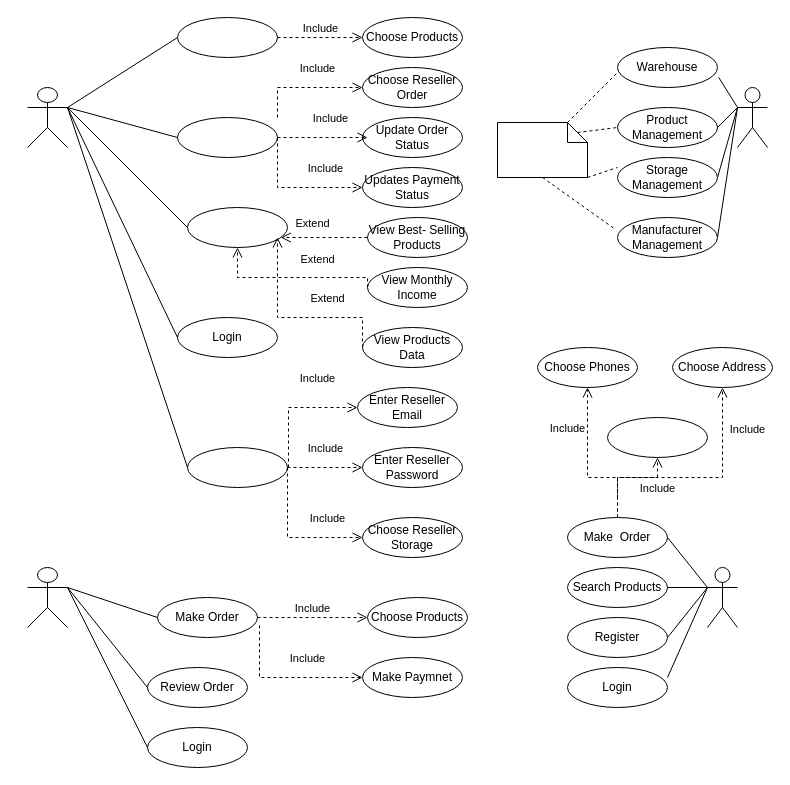
This 790x785 diagram has some shape labels left out. The centre of each missing label's shape, as x and y in pixels:
"Accountant" goes at (47,117).
"Admin" goes at (752,117).
"Choose payment" goes at (657,437).
"Create Export Receipt" goes at (227,137).
"Create import Receipt" goes at (227,37).
"Create Reseller Account" goes at (237,467).
"Create/Read Update/ Delete" goes at (542,150).
"Reseller" goes at (47,597).
"User" goes at (722,597).
"View Analysis Data" goes at (237,227).
